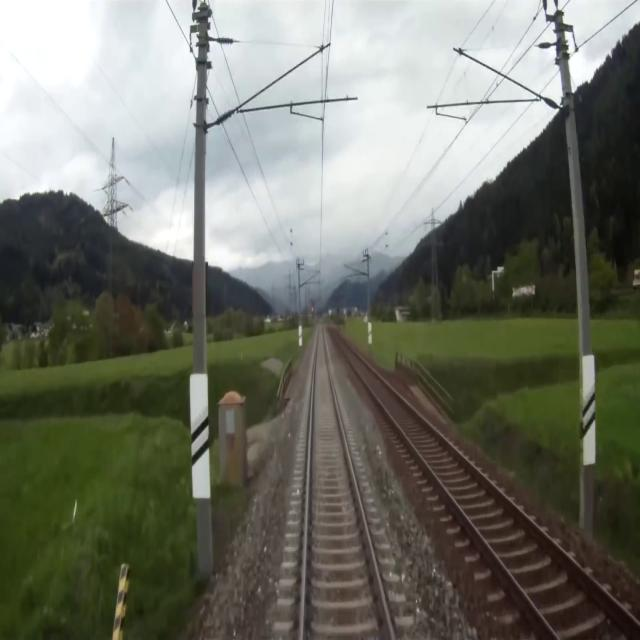rail-track: (330, 328, 640, 639), (303, 325, 391, 639)
